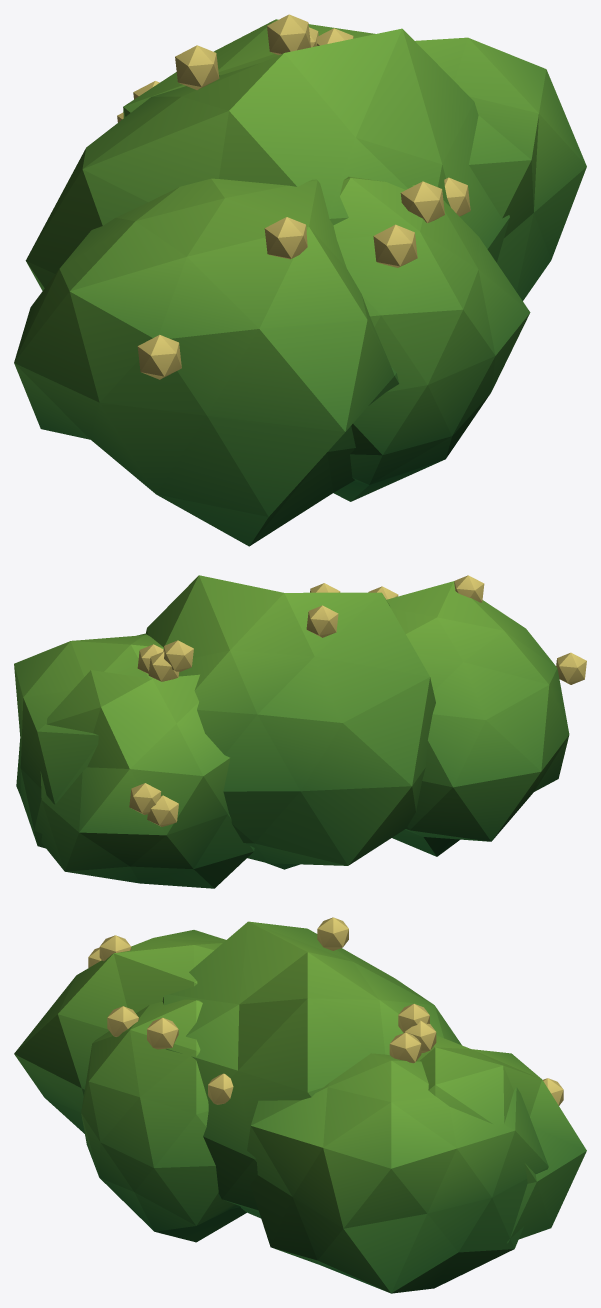
The model's file is f_bush3.glb.
The picture shows the model from 3 angles, top to bottom: view 1: azimuth 30°, elevation 25°; view 2: azimuth 150°, elevation 25°; view 3: azimuth 270°, elevation 25°; orthographic projection. The views are drawn at different scales.
Visible parts, largest first — view 1: bush3; view 2: bush3; view 3: bush3.
Part boxes in pixels (x1,y1,x2,y2): bush3: (14, 14, 586, 546); bush3: (14, 575, 586, 888); bush3: (14, 917, 586, 1293).
Bounding box in the file's own units: 1.88 × 1.13 × 1.95.
